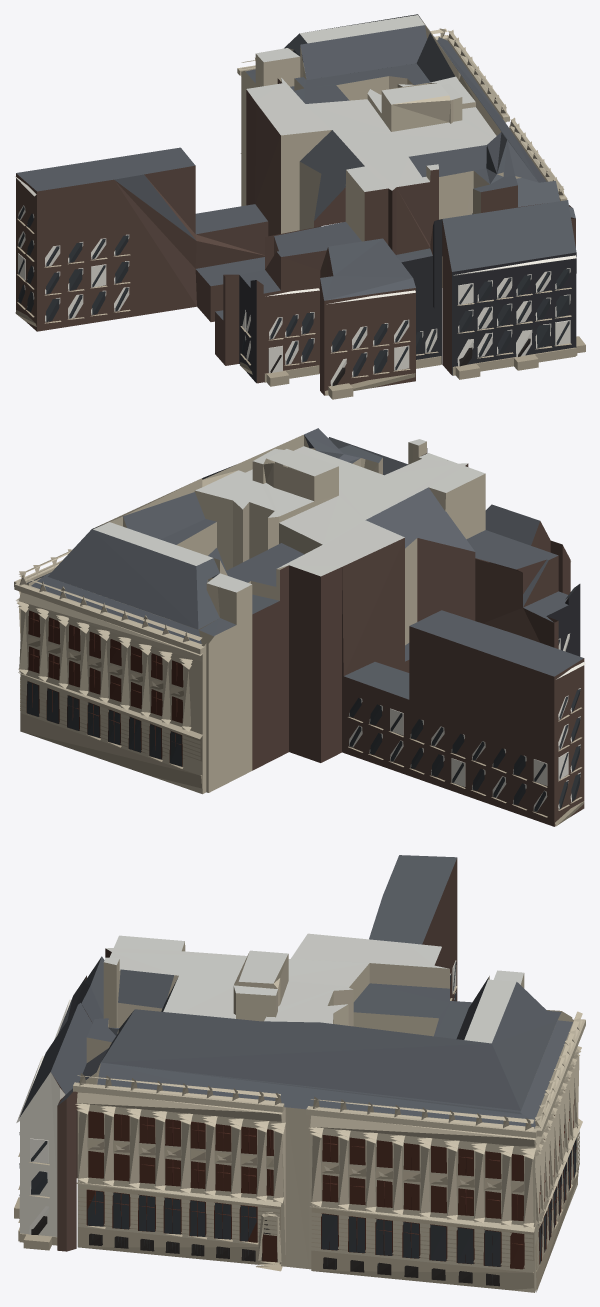
The model's file is handelsbank-singel-250.lod1.glb.
The picture shows the model from 3 angles, top to bottom: view 1: azimuth 30°, elevation 25°; view 2: azimuth 150°, elevation 25°; view 3: azimuth 270°, elevation 25°; orthographic projection. The views are drawn at different scales.
Visible parts, largest first — view 1: handelsbank-singel-250; view 2: handelsbank-singel-250; view 3: handelsbank-singel-250.
Part boxes in pixels (x1,y1,x2,y2): handelsbank-singel-250: [15, 14, 585, 399]; handelsbank-singel-250: [14, 428, 585, 826]; handelsbank-singel-250: [14, 855, 585, 1292].
Bounding box in the file's own units: 64.37 × 26.19 × 56.39.
